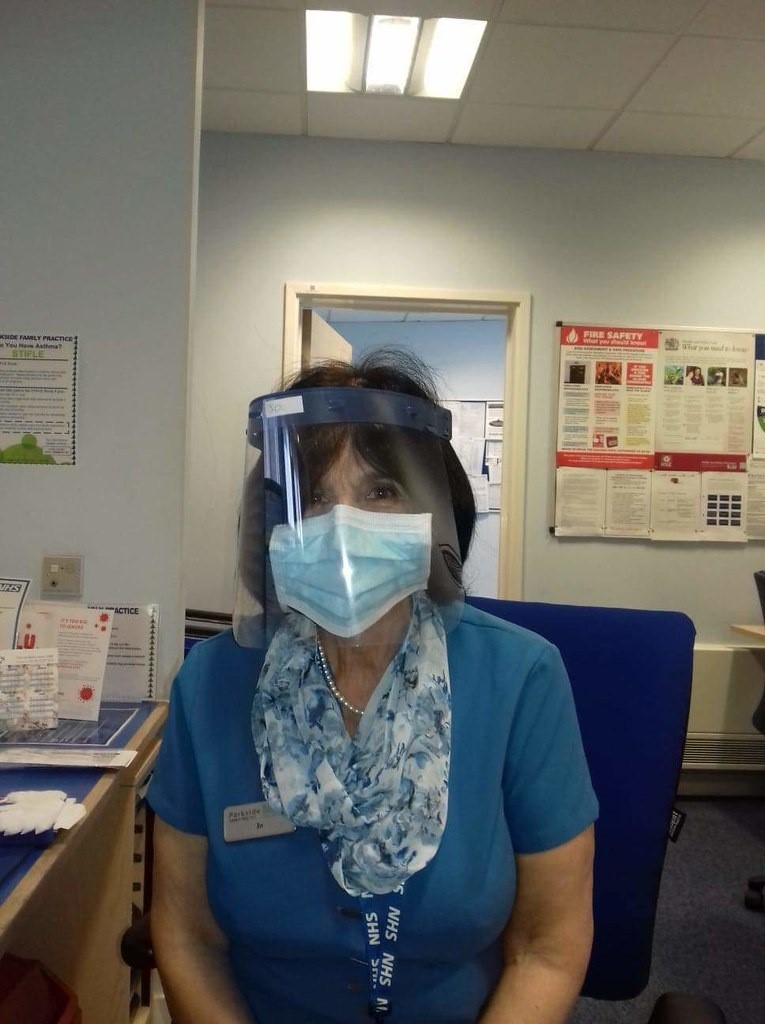face_with_mask: (253, 365, 459, 648)
